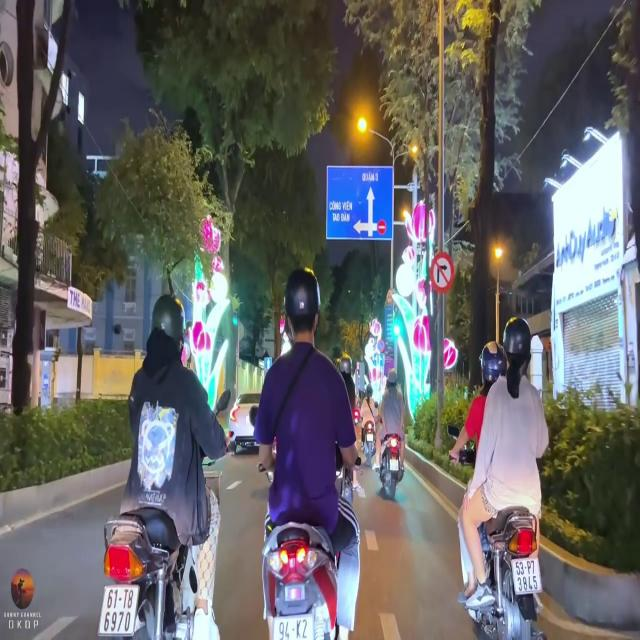bien_trang: (98, 583, 136, 638), (508, 560, 542, 600)
